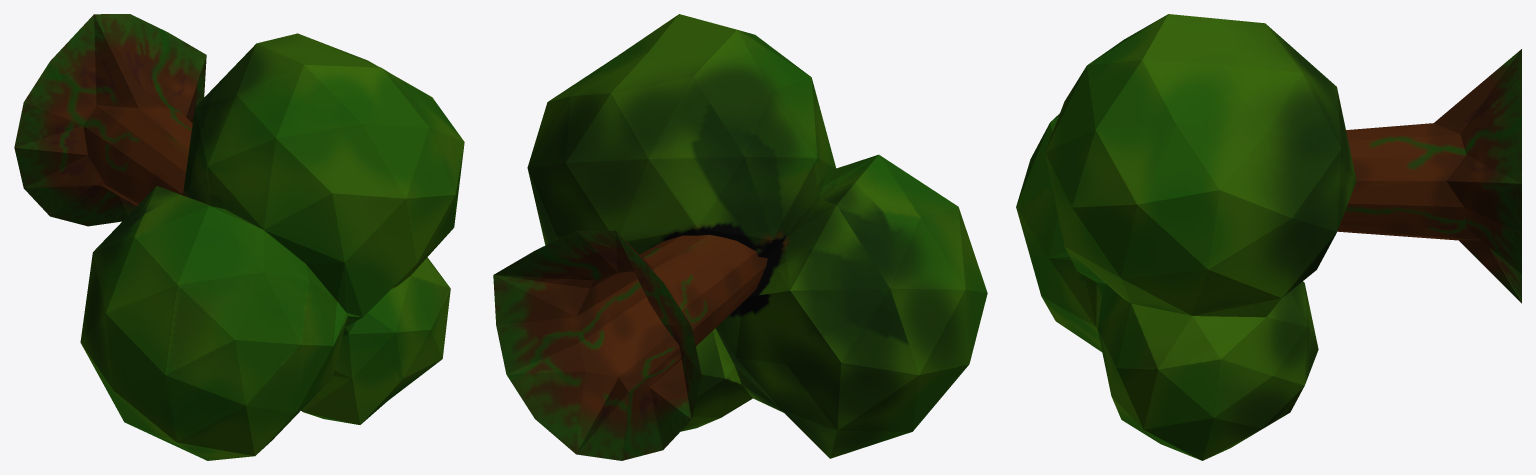
The model's file is Tree_Fluffy.obj.
3 renders of one model, left to right at view 1: azimuth 30°, elevation 25°; view 2: azimuth 150°, elevation 25°; view 3: azimuth 270°, elevation 25°, orthographic. The views are drawn at different scales.
Visible parts, largest first — view 1: b_Cylinder.001; view 2: b_Cylinder.001; view 3: b_Cylinder.001.
Part boxes in pixels (left/top/right/bottom): b_Cylinder.001: left=14, top=14, right=464, bottom=460; b_Cylinder.001: left=493, top=14, right=987, bottom=460; b_Cylinder.001: left=1016, top=14, right=1521, bottom=460.
Size of the model in its own units: 5.49 by 5.32 by 6.05.
